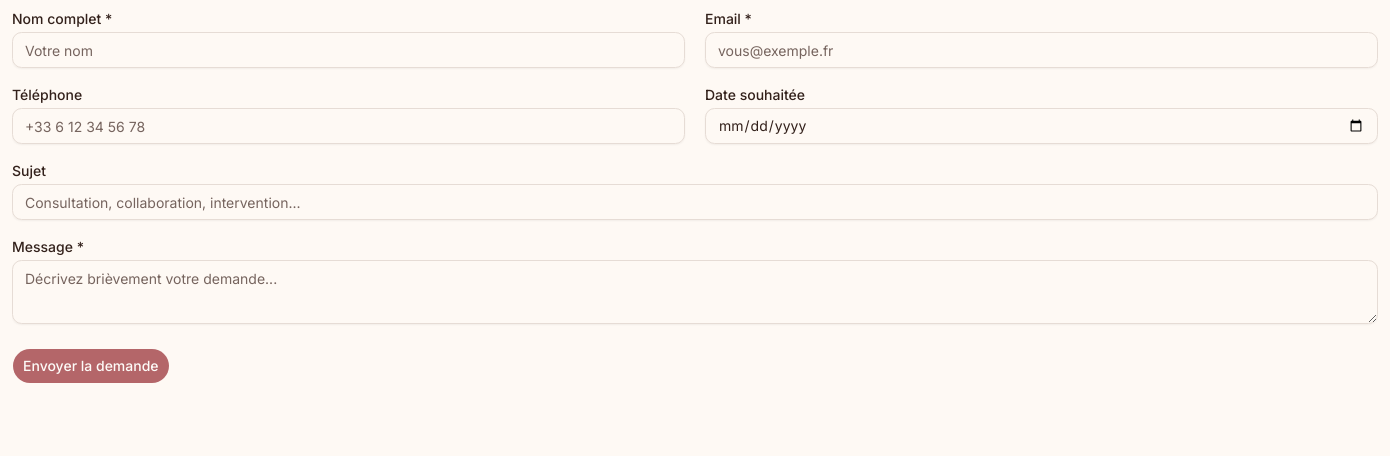
RdvForm › shows the global error returned by the action
This screenshot has width=1390, height=456.
Type "Alice" into the field labelled "Nom complet *" at (348, 50), box [12, 32, 685, 68]
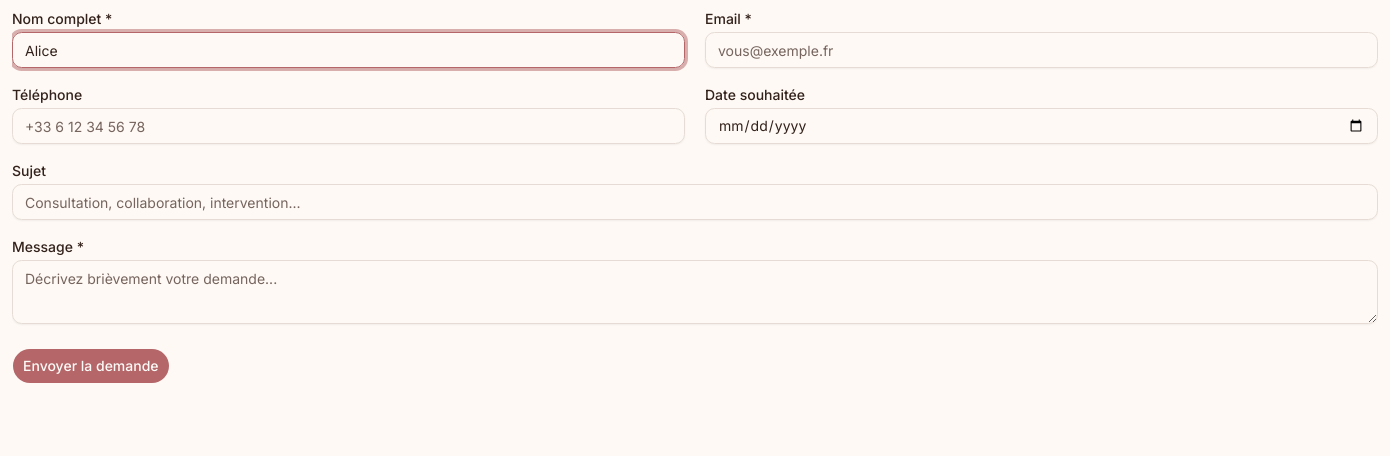
Type "alice@exemple.fr" into the field labelled "Email *" at (1042, 50), box [705, 32, 1378, 68]
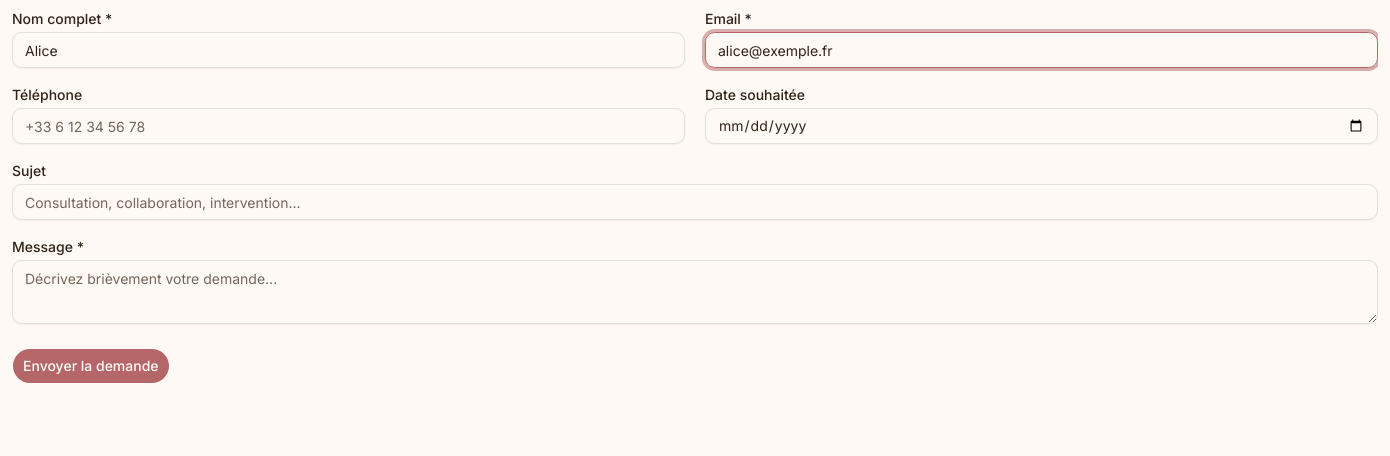
Type "Bonjour" into the text box labelled "Message *" at (695, 292), box [12, 260, 1378, 324]
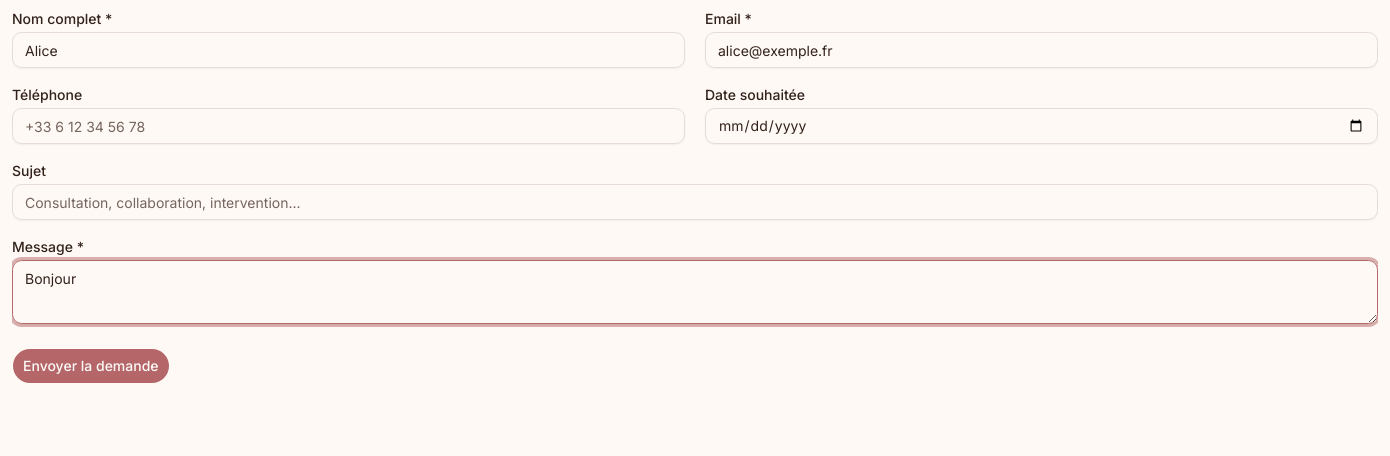
Click the button "Envoyer la demande" at (91, 366), box [12, 348, 170, 384]
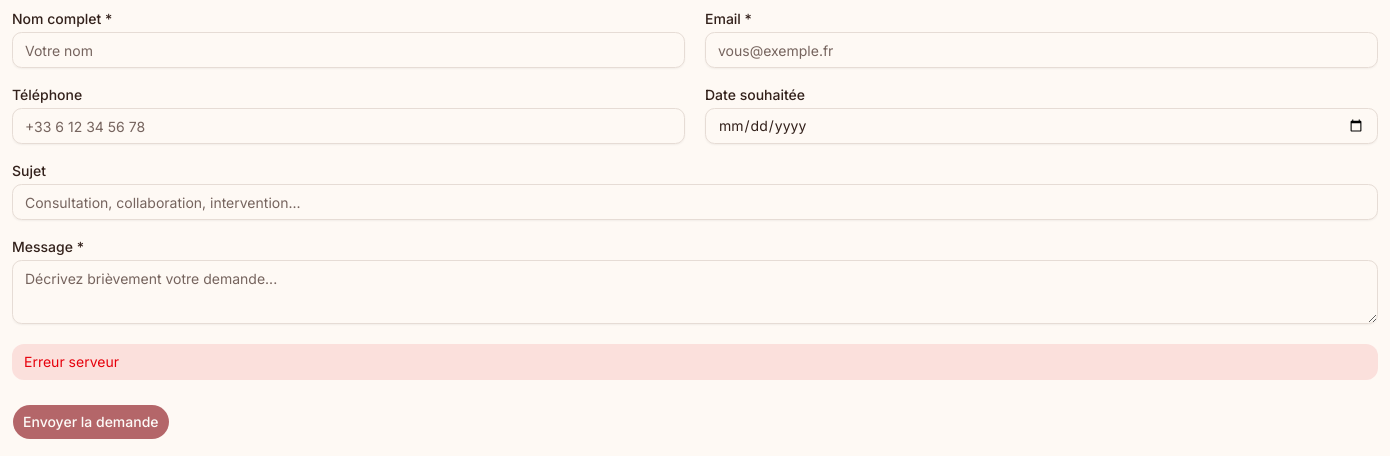
Check: the text "Erreur serveur" is shown, box [12, 344, 1378, 380]
